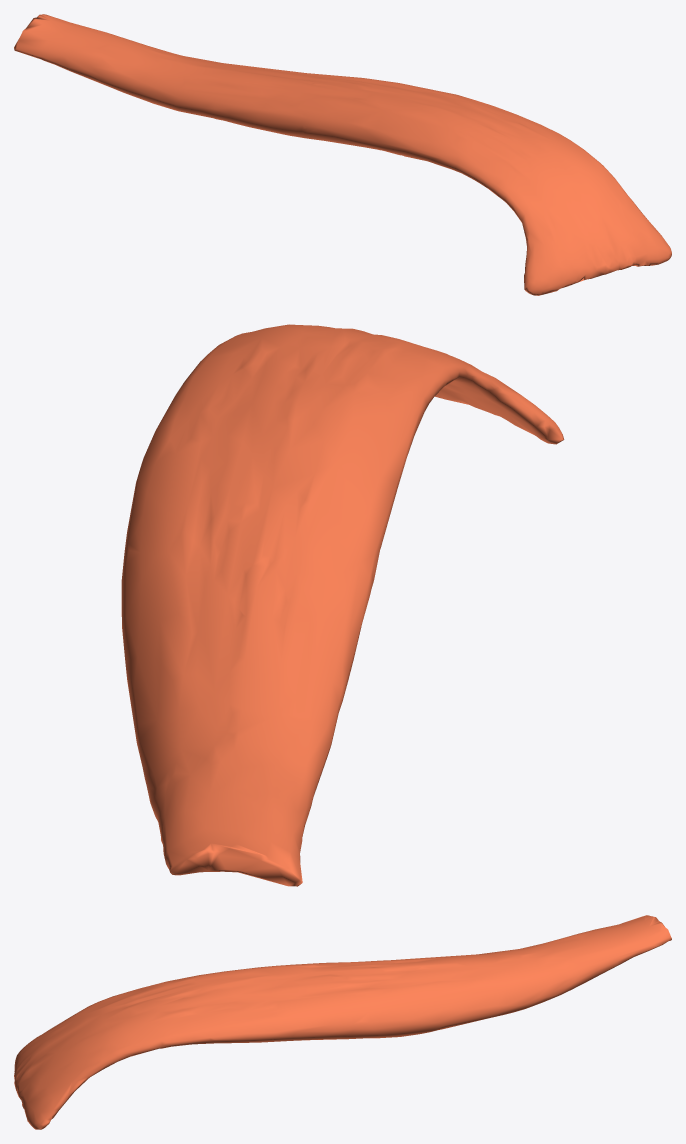
File: Superior_rectus_left.glb
3 renders of one model, top to bottom at view 1: azimuth 30°, elevation 25°; view 2: azimuth 150°, elevation 25°; view 3: azimuth 270°, elevation 25°, orthographic. The views are drawn at different scales.
Parts seen in each view (by area): view 1: Superior_rectus_muscle.l_grp1.005; view 2: Superior_rectus_muscle.l_grp1.005; view 3: Superior_rectus_muscle.l_grp1.005.
Boxes of the visible parts, x1,y1,x2,y2 form: Superior_rectus_muscle.l_grp1.005: (14, 14, 671, 295); Superior_rectus_muscle.l_grp1.005: (121, 324, 564, 886); Superior_rectus_muscle.l_grp1.005: (14, 915, 671, 1129).
Size of the model in its own units: 0.0229 by 0.00645 by 0.0406.
